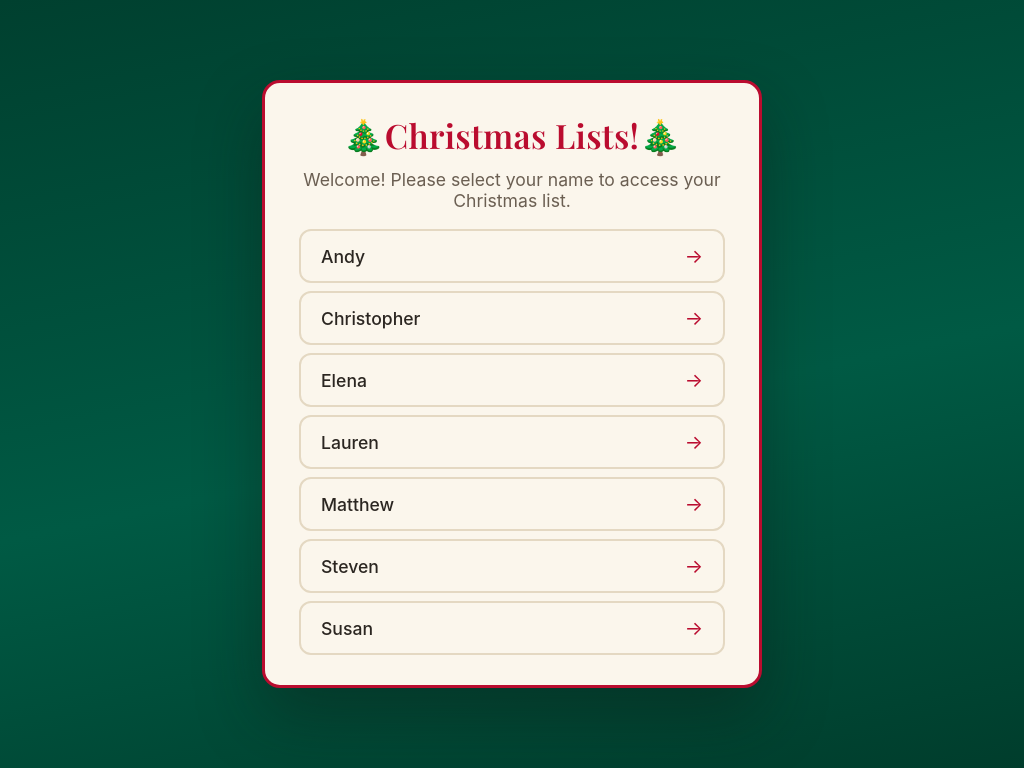
it: choosing a name opens that person’s password prompt
This screenshot has width=1024, height=768.
Click the text "Andy" at (343, 256), box [321,246,365,266]
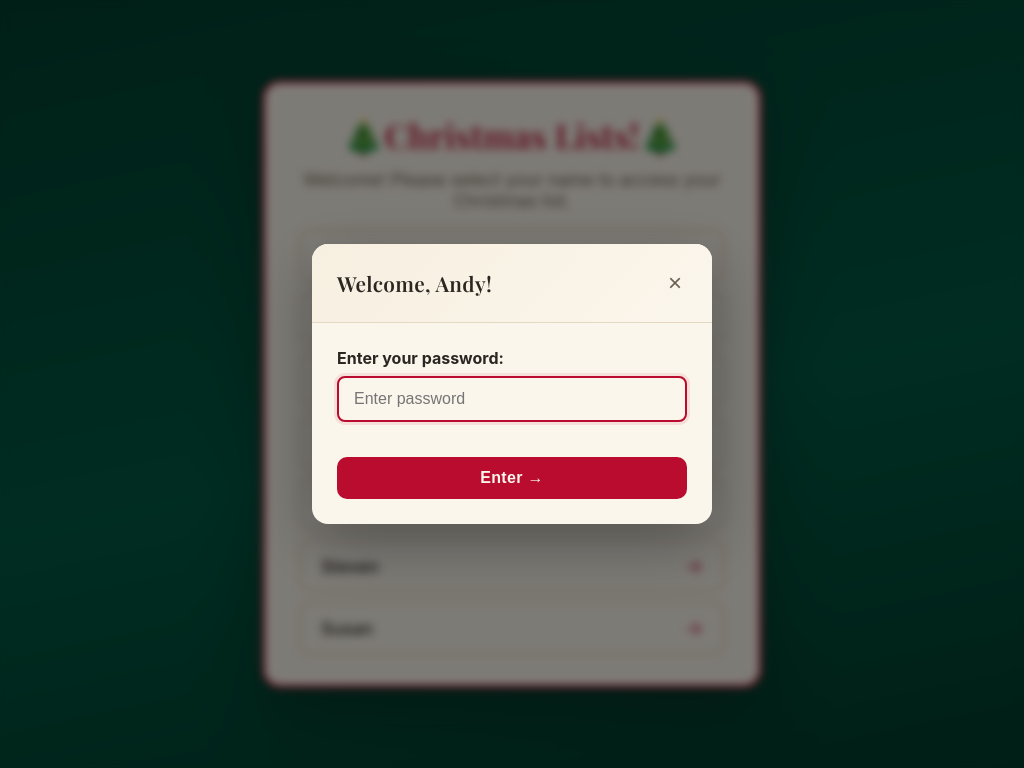
Check: the heading "Welcome, Andy!" is shown, box [337,269,492,297]
